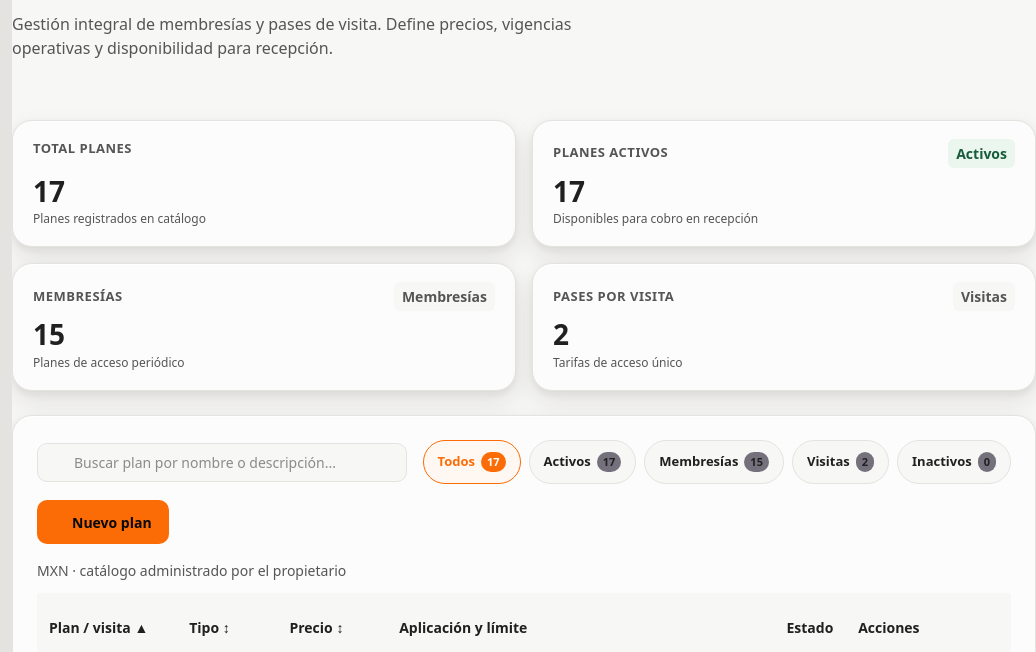
Test: PlanCatalog owner screen › filters table by category and status pills
// Filter by Visitas
Click the button "Visitas 2" at (841, 462), box [792, 440, 889, 484]
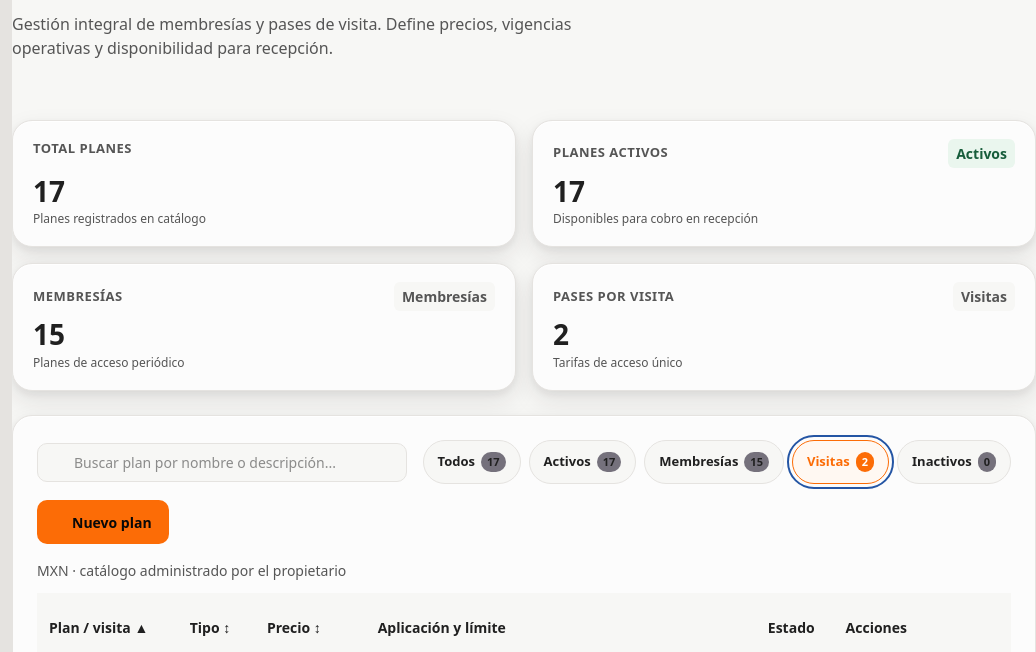
// Filter by Membresías
Click the button "Membresías 15" at (714, 462), box [644, 440, 784, 484]
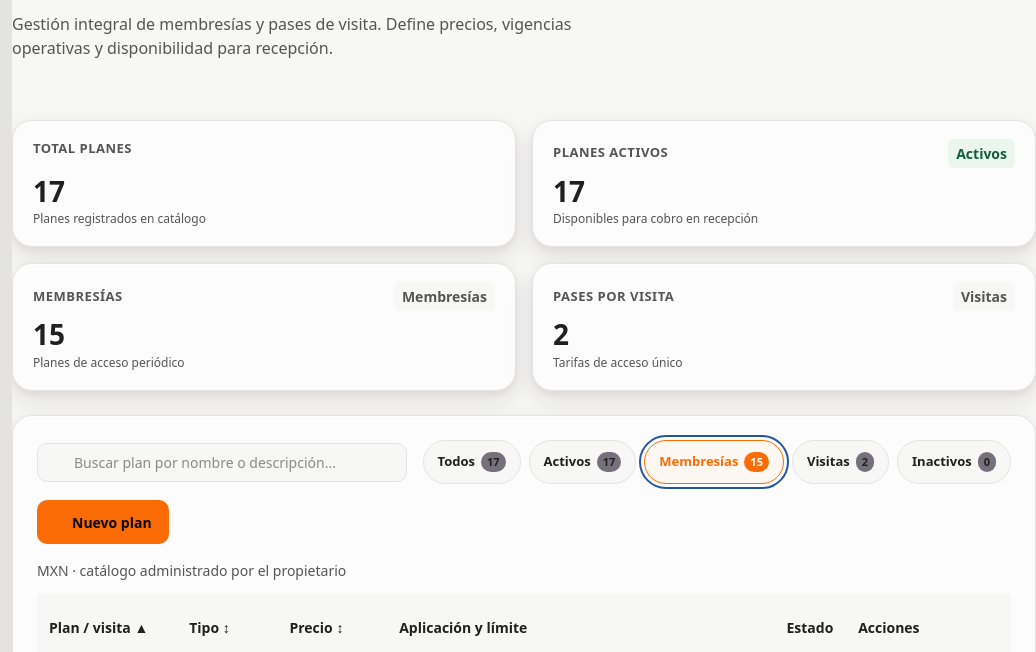
// Filter by Inactivos (initially empty)
Click the button "Inactivos 0" at (954, 462), box [897, 440, 1011, 484]
(page scrolled)
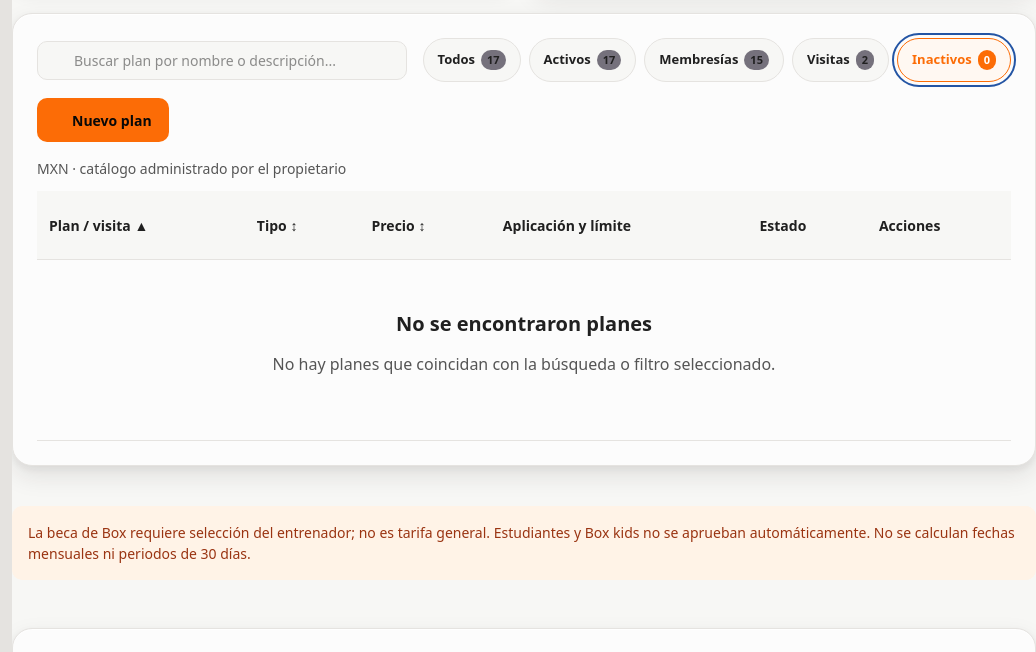
expect the heading "No se encontraron planes" is shown: met, box [396, 310, 652, 337]
